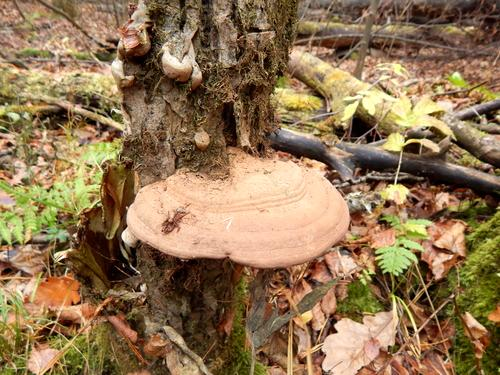Ganoderma - Fruit Body: (122, 147, 350, 268)
